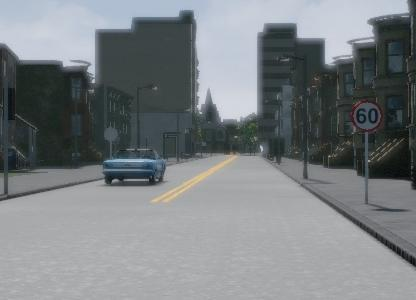Speed_60: (350, 97, 382, 135)
